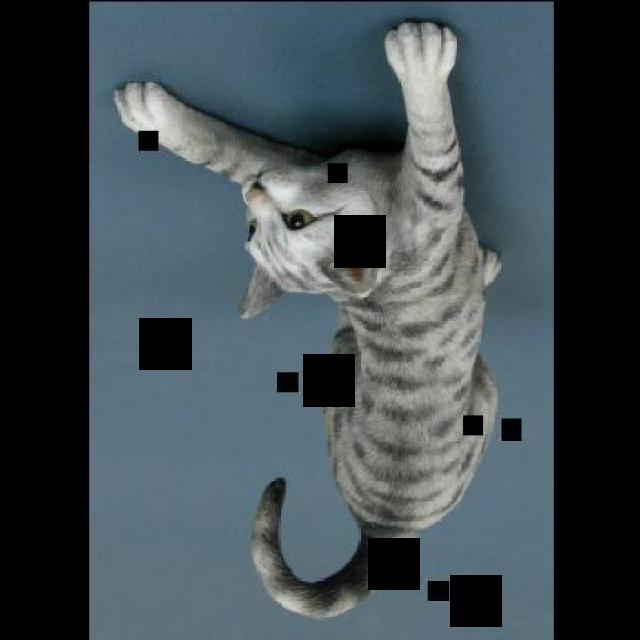unauthorized: (112, 19, 502, 618)
